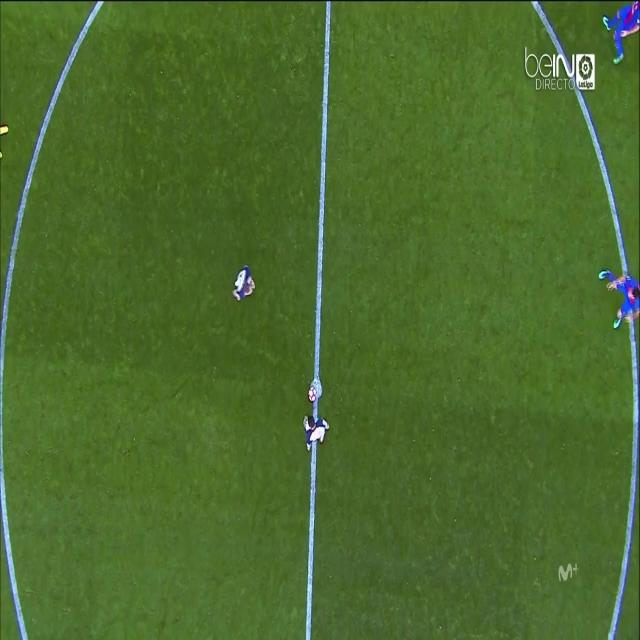Ball: (306, 382, 318, 407)
Player: (596, 263, 640, 333), (603, 0, 640, 66), (300, 409, 333, 455), (231, 260, 257, 305)
